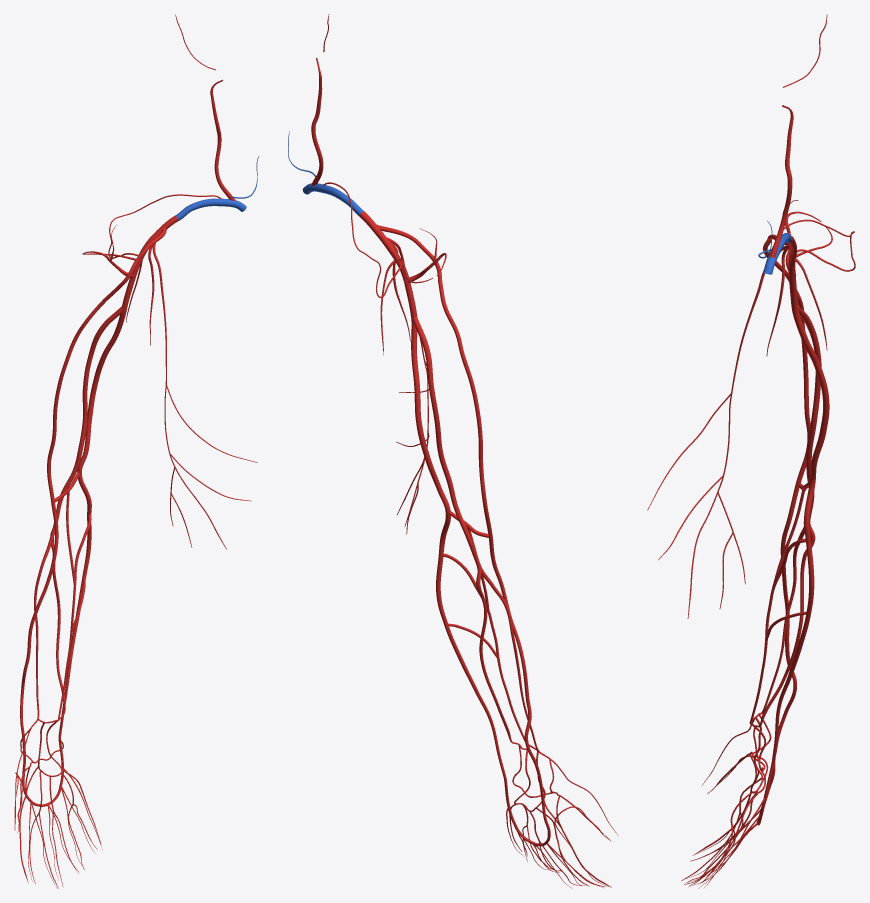
The model's file is circulatorio-right-subclavian-vein.glb.
3 renders of one model, left to right at view 1: azimuth 30°, elevation 25°; view 2: azimuth 150°, elevation 25°; view 3: azimuth 270°, elevation 25°, orthographic. The views are drawn at different scales.
Visible parts, largest first — view 1: Cephalic vein.r, Basilic vein.r, Palmar digital veins.r, Lateral thoracic vein.r, Brachial veins.r, Dorsal digital veins of hand.r, Median antebrachial vein.r, Radial veins.r, Right subclavian vein, Ulnar veins.r, Axillary vein.r, External jugular vein.r; view 2: Cephalic vein.r, Basilic vein.r, Brachial veins.r, Palmar digital veins.r, Axillary vein.r, Dorsal digital veins of hand.r, Median antebrachial vein.r, Ulnar veins.r, Lateral thoracic vein.r, Radial veins.r; view 3: Basilic vein.r, Cephalic vein.r, Lateral thoracic vein.r, Palmar digital veins.r, Brachial veins.r, Median antebrachial vein.r, Dorsal digital veins of hand.r, Ulnar veins.r, External jugular vein.r, Radial veins.r, Axillary vein.r.
Part boxes in pixels (box(x1,y1,x2,y2)): Cephalic vein.r: box(20, 227, 166, 756); Basilic vein.r: box(58, 308, 127, 735); Palmar digital veins.r: box(17, 761, 101, 888); Lateral thoracic vein.r: box(152, 243, 257, 549); Brachial veins.r: box(56, 306, 123, 521); Dorsal digital veins of hand.r: box(14, 726, 102, 888); Median antebrachial vein.r: box(38, 514, 91, 723); Radial veins.r: box(31, 522, 54, 726); Right subclavian vein: box(176, 198, 246, 220); Ulnar veins.r: box(50, 528, 65, 719); Axillary vein.r: box(122, 215, 178, 308); External jugular vein.r: box(210, 91, 235, 200); Cephalic vein.r: box(377, 225, 544, 800); Basilic vein.r: box(411, 318, 505, 776); Brachial veins.r: box(412, 317, 479, 564); Palmar digital veins.r: box(509, 791, 611, 887); Axillary vein.r: box(359, 211, 417, 317); Dorsal digital veins of hand.r: box(506, 757, 618, 888); Median antebrachial vein.r: box(443, 553, 536, 750); Ulnar veins.r: box(476, 563, 526, 749); Lateral thoracic vein.r: box(387, 237, 429, 534); Radial veins.r: box(479, 564, 548, 758); Basilic vein.r: box(772, 307, 829, 760); Cephalic vein.r: box(762, 234, 810, 754); Lateral thoracic vein.r: box(647, 244, 789, 618); Palmar digital veins.r: box(681, 751, 761, 885); Brachial veins.r: box(798, 305, 821, 520); Median antebrachial vein.r: box(749, 538, 806, 726); Dorsal digital veins of hand.r: box(685, 719, 768, 888); Ulnar veins.r: box(753, 520, 815, 727); External jugular vein.r: box(769, 116, 793, 257); Radial veins.r: box(758, 526, 804, 713); Axillary vein.r: box(788, 235, 798, 307).
Size of the model in its own units: 0.3275 by 0.911 by 0.1769.
